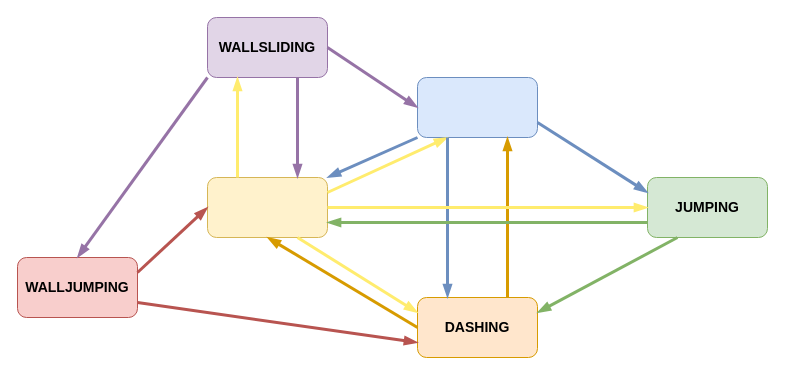
The diagram is 785 pixels wide and 375 high, and some of its shapes have lost their labels. The shapes that lost their labels are listed below. From the top down, each one's centre as x and y in pixels, then its label:
At (477,107): "GROUNDED".
At (267,207): "FALLING".
